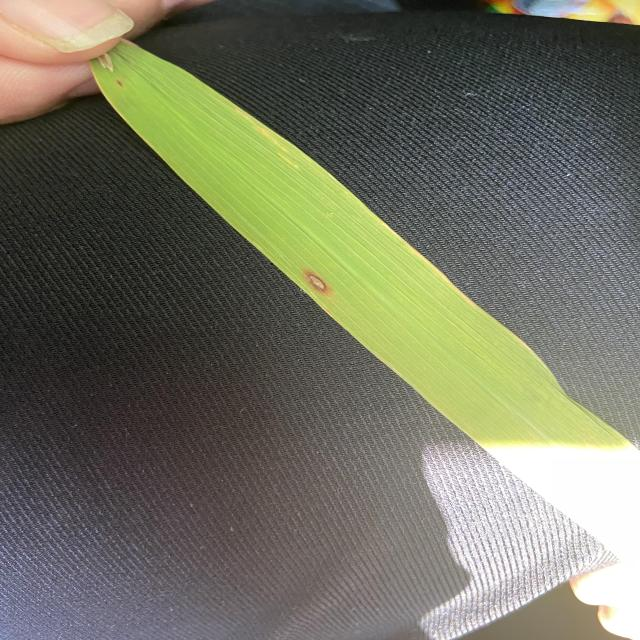Dom nau: (305, 271, 329, 295)
